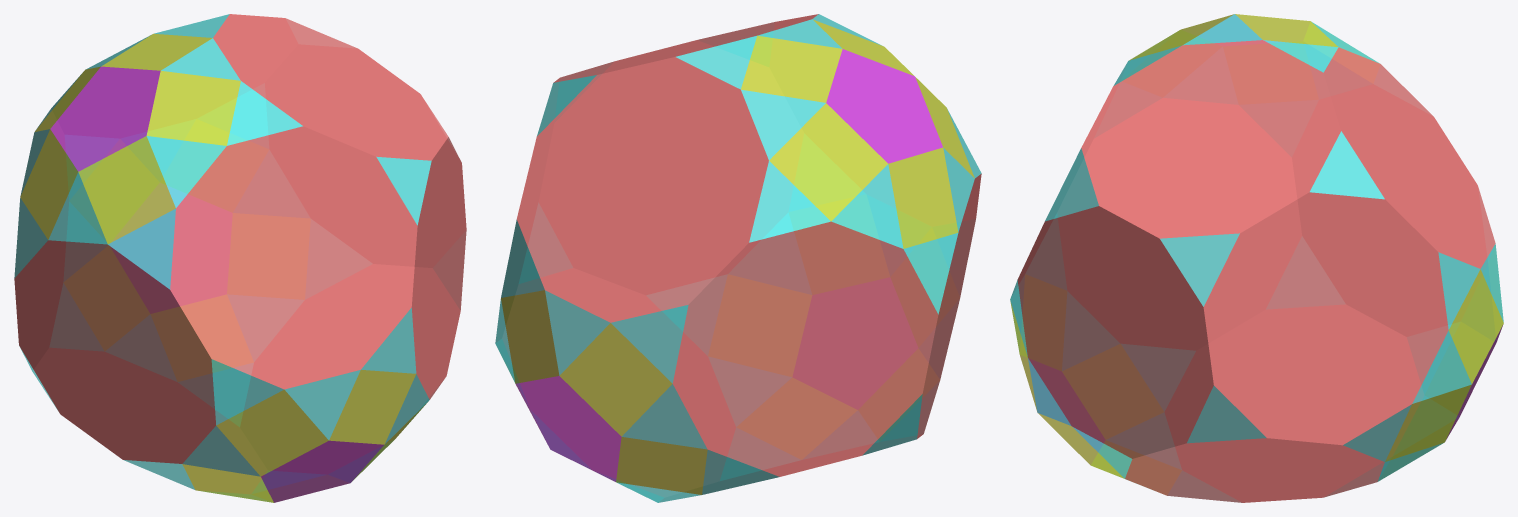
Rendered from j71_triaugmented_truncated_dodecahedron.obj.
3 views of the same model, side by side, from view 1: azimuth 30°, elevation 25°; view 2: azimuth 150°, elevation 25°; view 3: azimuth 270°, elevation 25° (orthographic). The views are drawn at different scales.
Size of the model in its own units: 1.95 by 1.97 by 2.
